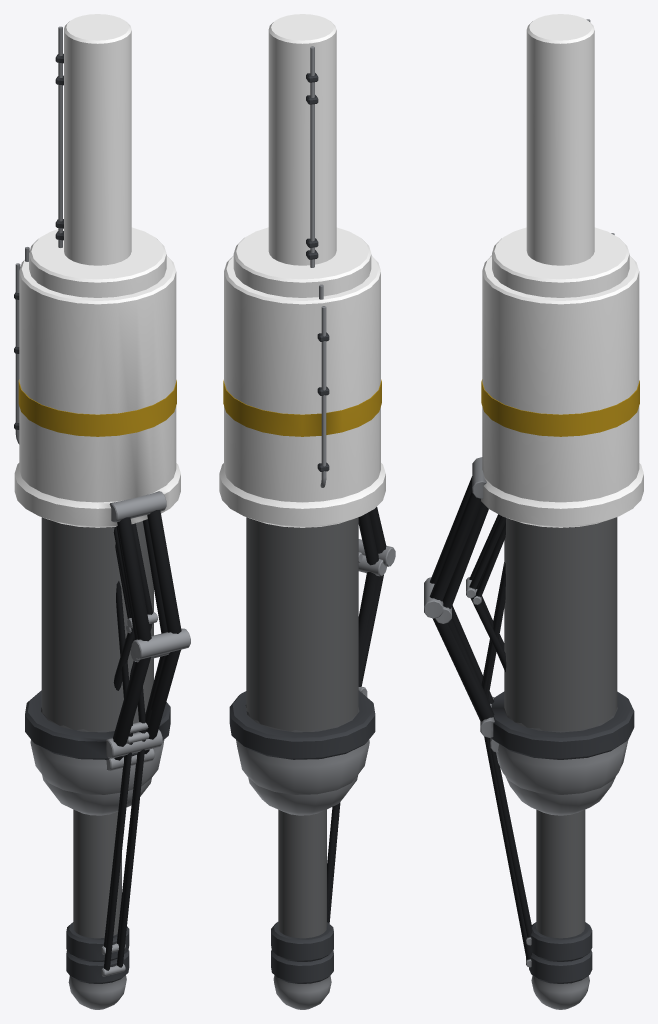
Rendered from estilo_tren_pata.glb.
The picture shows the model from 3 angles, left to right: view 1: azimuth 30°, elevation 25°; view 2: azimuth 150°, elevation 25°; view 3: azimuth 270°, elevation 25°; orthographic projection.
Parts seen in each view (by area): view 1: c162x1100, c70x2200, c70x2100, c142x1180, c85x1000; view 2: c162x1100, c70x2200, c142x1180, c70x2100; view 3: c162x1100, c70x2200, c70x2100, c142x1180, c85x1000, c75x1080.
Boxes of the visible parts, x1=… form: c162x1100: x1=14, y1=256, x2=190, y2=794; c70x2200: x1=55, y1=14, x2=149, y2=1009; c70x2100: x1=55, y1=50, x2=148, y2=961; c142x1180: x1=25, y1=227, x2=169, y2=815; c85x1000: x1=113, y1=523, x2=157, y2=687; c162x1100: x1=219, y1=255, x2=395, y2=794; c70x2200: x1=268, y1=14, x2=340, y2=1009; c142x1180: x1=233, y1=227, x2=386, y2=815; c70x2100: x1=268, y1=52, x2=338, y2=961; c162x1100: x1=424, y1=255, x2=643, y2=794; c70x2200: x1=484, y1=14, x2=594, y2=1009; c70x2100: x1=481, y1=59, x2=592, y2=961; c142x1180: x1=435, y1=227, x2=629, y2=815; c85x1000: x1=466, y1=514, x2=506, y2=669; c75x1080: x1=472, y1=523, x2=505, y2=672.
Size of the model in its own units: 0.3434 by 2.23 by 0.4537.
